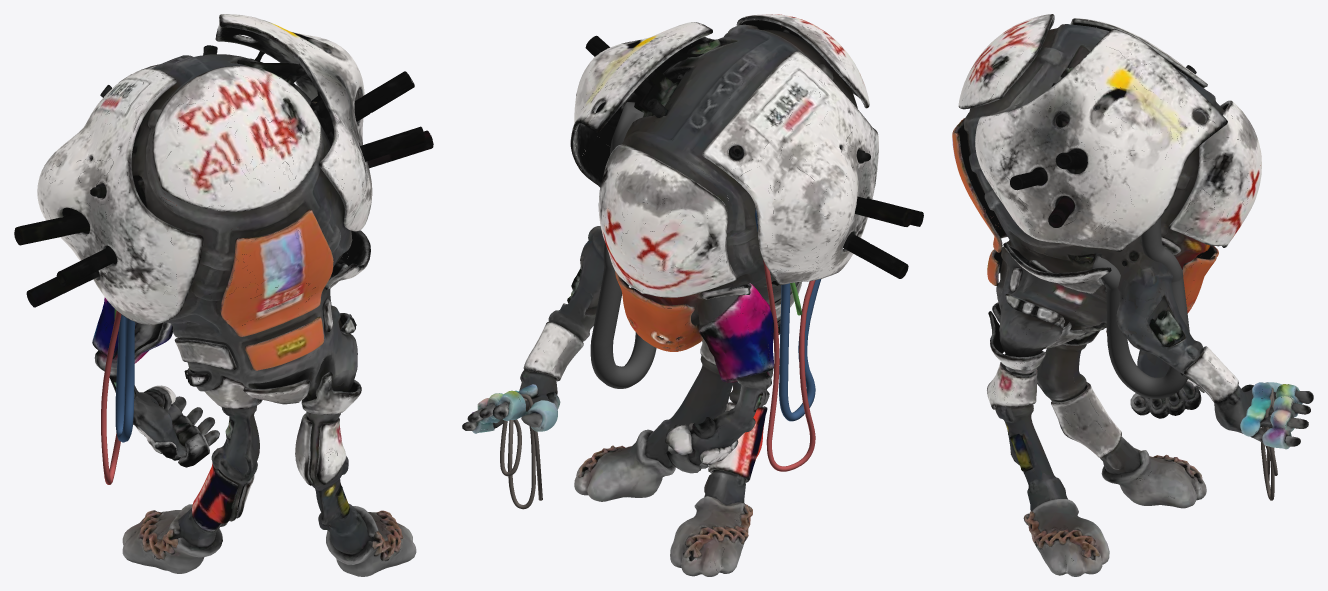
File: beanbot-transformed.glb
3 renders of one model, left to right at view 1: azimuth 30°, elevation 25°; view 2: azimuth 150°, elevation 25°; view 3: azimuth 270°, elevation 25°, orthographic. The views are drawn at different scales.
Parts seen in each view (by area): view 1: Group24954_1_BeanBot_0, Sweep_1_Blue_0, Sweep_4_Red_0; view 2: Group24954_1_BeanBot_0, Sweep_Grey_0, Sweep_4_Red_0, Sweep_1_Blue_0, Sweep_2_Brown_0; view 3: Group24954_1_BeanBot_0, Sweep_Grey_0, Sweep_2_Brown_0.
Boxes of the visible parts, <box> form: Group24954_1_BeanBot_0: <box>14,14,433,576</box>; Sweep_1_Blue_0: <box>115,314,134,442</box>; Sweep_4_Red_0: <box>101,310,121,484</box>; Group24954_1_BeanBot_0: <box>462,14,923,576</box>; Sweep_Grey_0: <box>590,102,656,388</box>; Sweep_4_Red_0: <box>763,259,815,471</box>; Sweep_1_Blue_0: <box>755,208,821,421</box>; Sweep_2_Brown_0: <box>500,394,542,509</box>; Group24954_1_BeanBot_0: <box>952,14,1313,576</box>; Sweep_Grey_0: <box>1092,217,1189,399</box>; Sweep_2_Brown_0: <box>1261,387,1277,500</box>.
Bounding box in the file's own units: 212 × 292 × 197.
6 materials, 1 textured.
